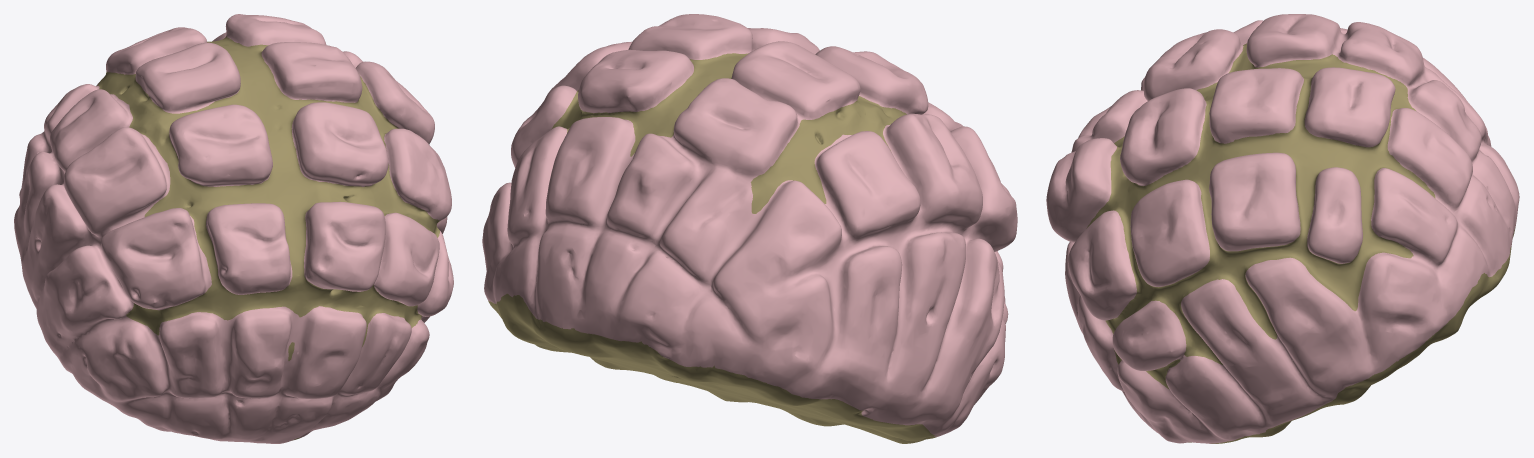
Rendered from Stack 1B - Concha.glb.
3 renders of one model, left to right at view 1: azimuth 30°, elevation 25°; view 2: azimuth 150°, elevation 25°; view 3: azimuth 270°, elevation 25°, orthographic. The views are drawn at different scales.
Visible parts, largest first — view 1: Stack 1B - Concha · mesh; view 2: Stack 1B - Concha · mesh; view 3: Stack 1B - Concha · mesh.
Boxes of the visible parts, x1,y1,x2,y2 form: Stack 1B - Concha · mesh: (14, 14, 453, 443); Stack 1B - Concha · mesh: (482, 14, 1017, 443); Stack 1B - Concha · mesh: (1046, 14, 1519, 443).
Size of the model in its own units: 1 by 0.8901 by 1.01.
